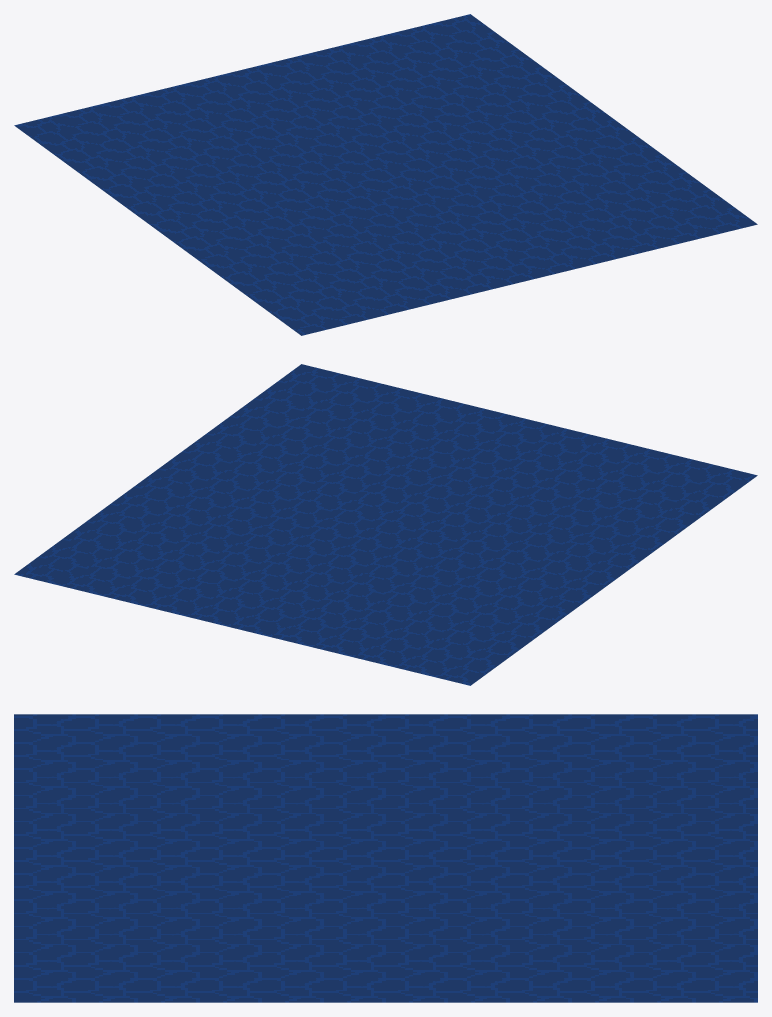
Rendered from gorund_test02.fbx.
3 views of the same model, one above another, from view 1: azimuth 30°, elevation 25°; view 2: azimuth 150°, elevation 25°; view 3: azimuth 270°, elevation 25° (orthographic). The views are drawn at different scales.
Visible parts, largest first — view 1: Plane; view 2: Plane; view 3: Plane.
Boxes of the visible parts, x1,y1,x2,y2 form: Plane: [14, 14, 757, 335]; Plane: [14, 364, 757, 685]; Plane: [14, 714, 757, 1002].
Size of the model in its own units: 550 by 9.78e-05 by 600.
1 material, 1 textured.
